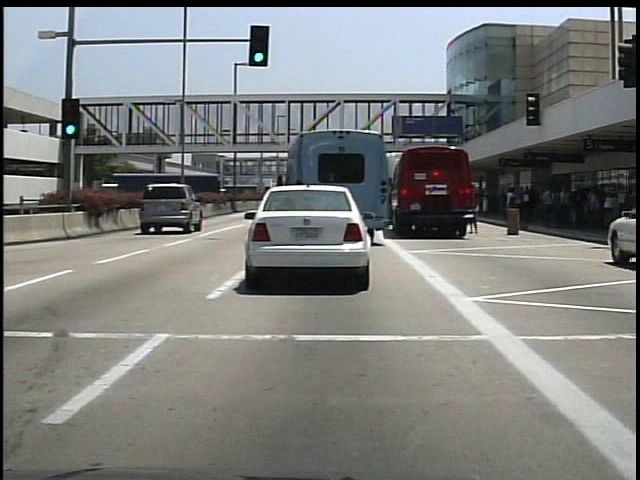person: (469, 181, 482, 236)
